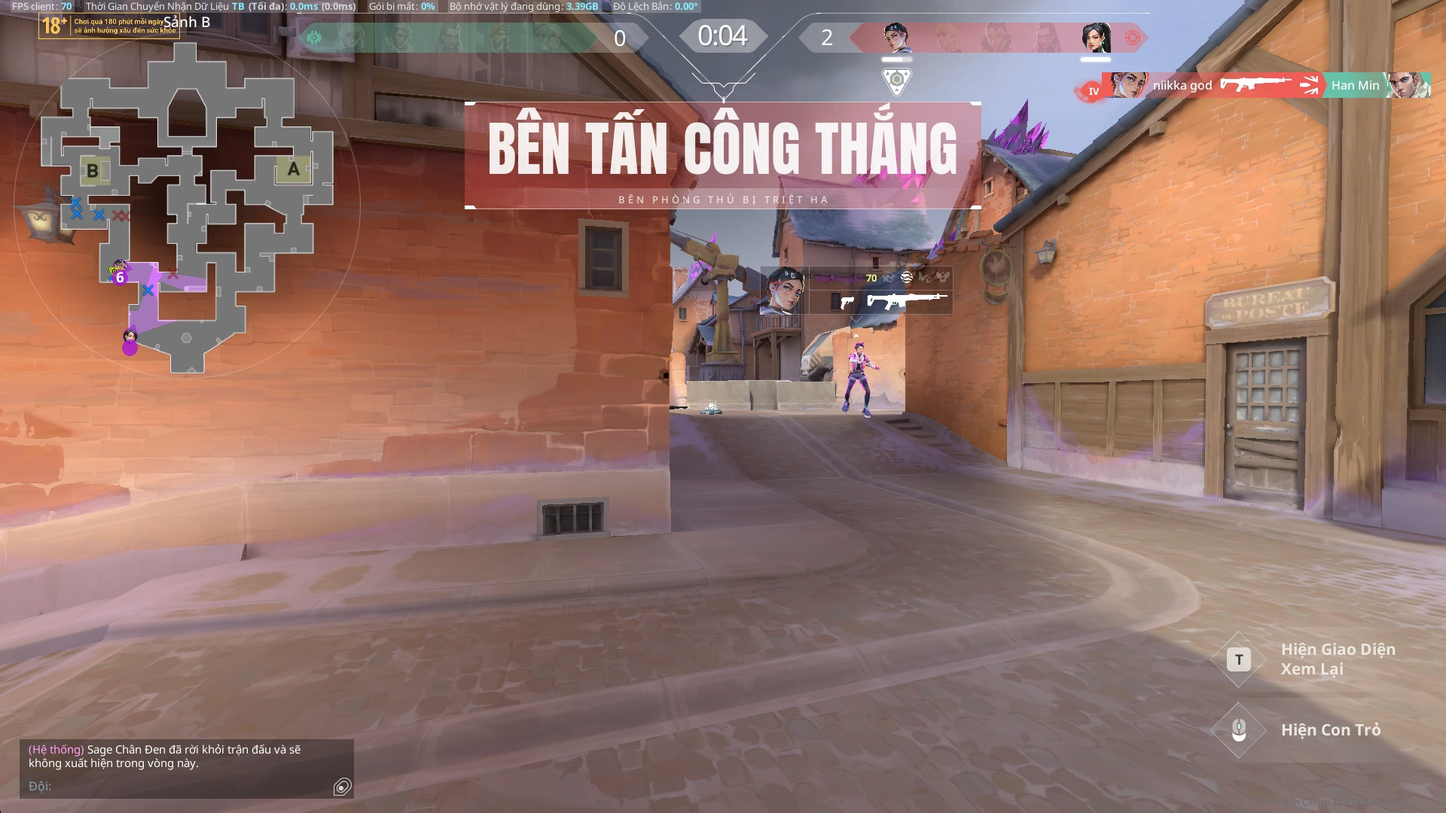body: (849, 353, 868, 374)
head: (854, 343, 866, 355)
